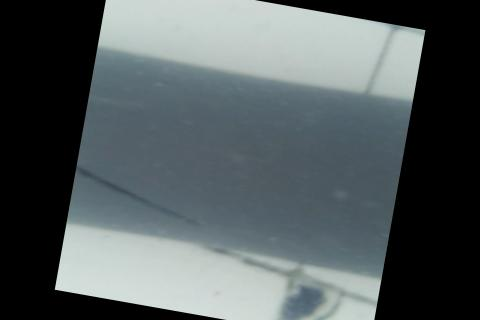keretakan: (69, 164, 212, 230)
